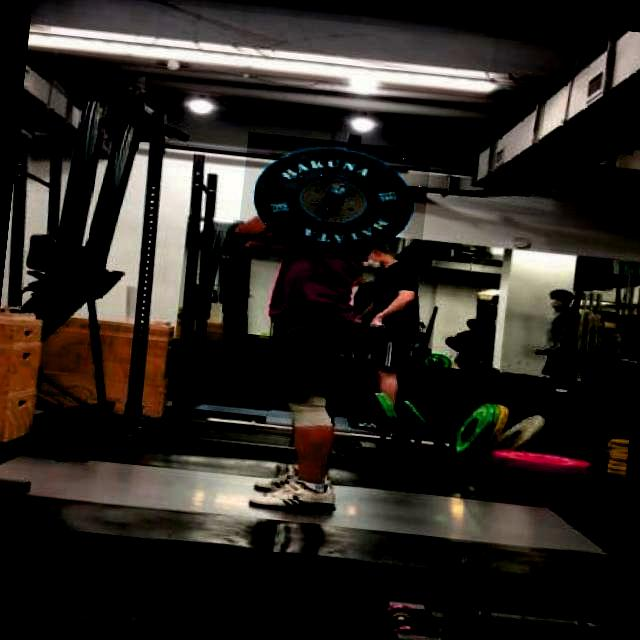barbell: (237, 133, 432, 268)
